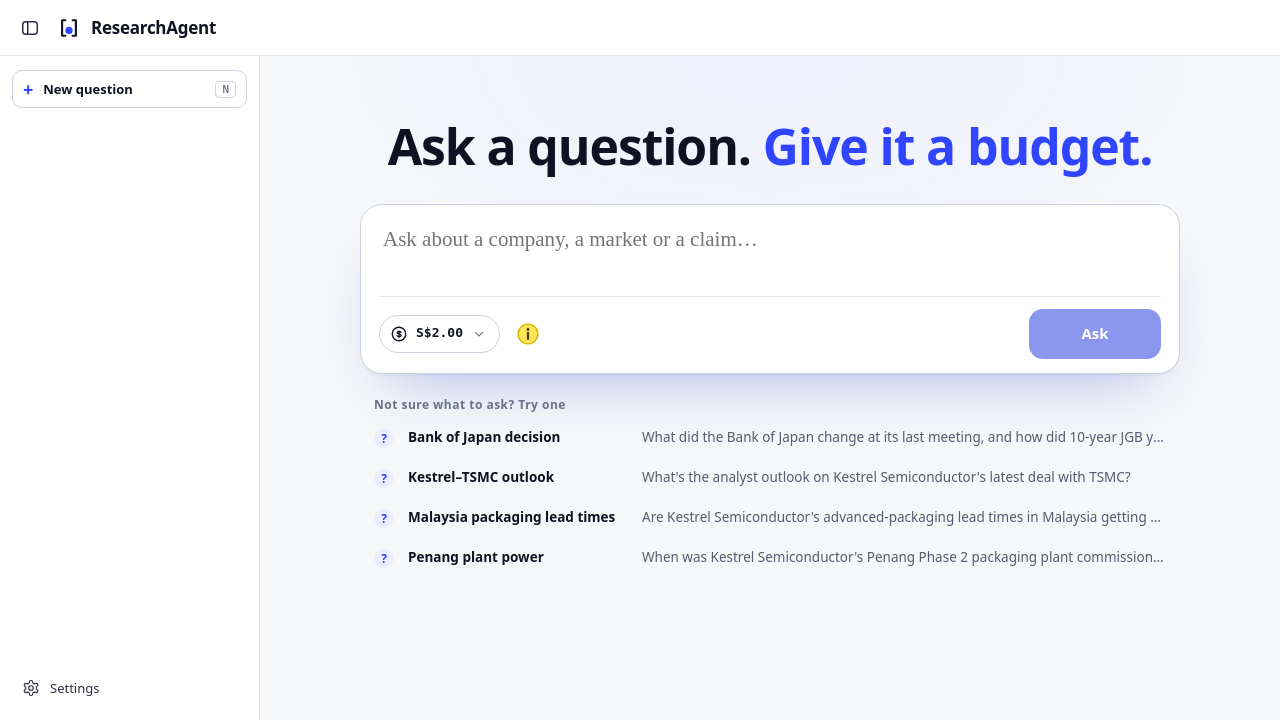
Test: chat page (owner, 9 Oct) › a research follow-up opens the plan card on the chat page; Cancel drops it and starts nothing
Type "hi" into the text box named "Your question" at (770, 259), box [379,223,1161,296]
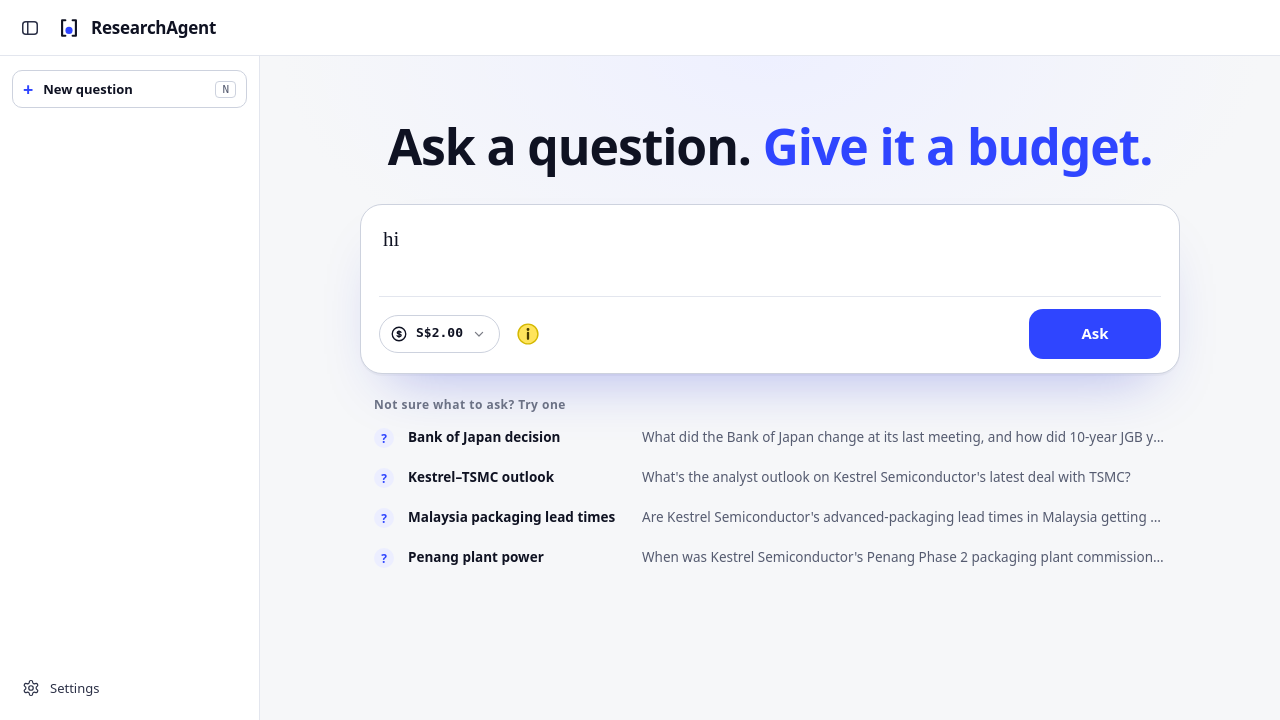
Click the button "Ask" at (1095, 334), box [1029,309,1161,359]
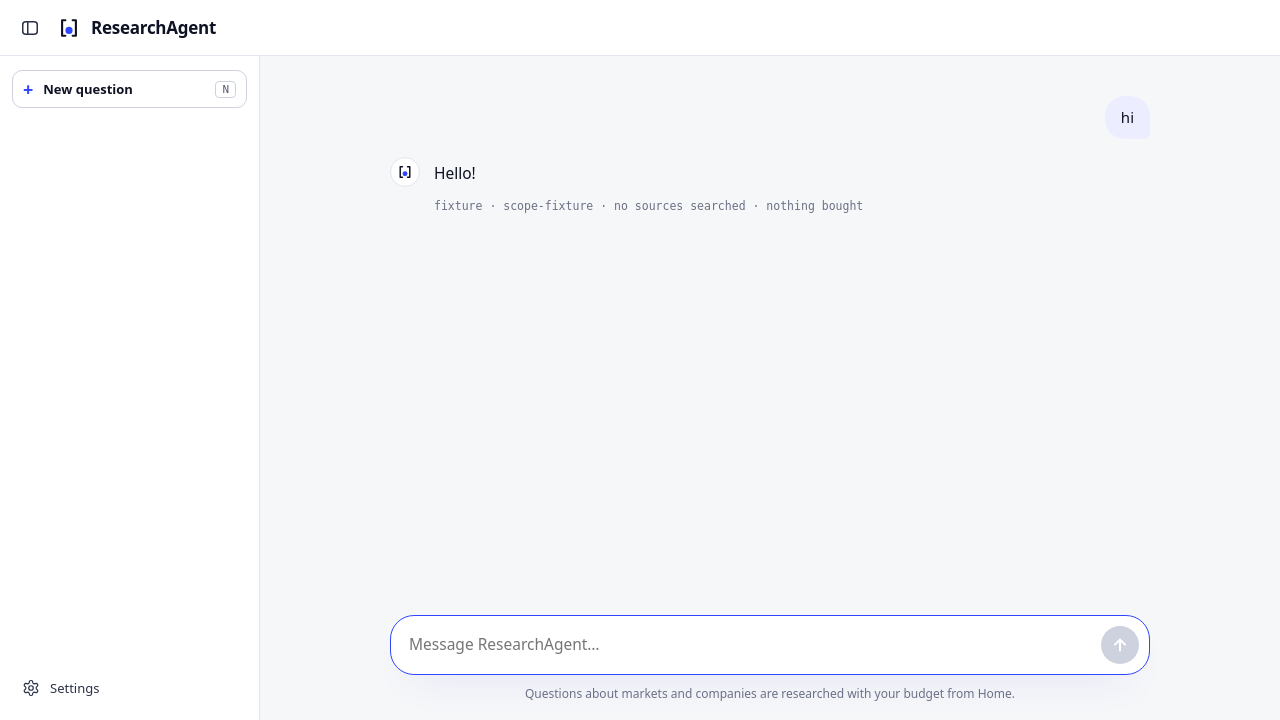
Result: the element with test id "ra-chat-reply" is shown at [390,156,863,213]
Type "Kestrel outlook?" into the text box named "Your message" at (750, 645), box [409,626,1091,664]
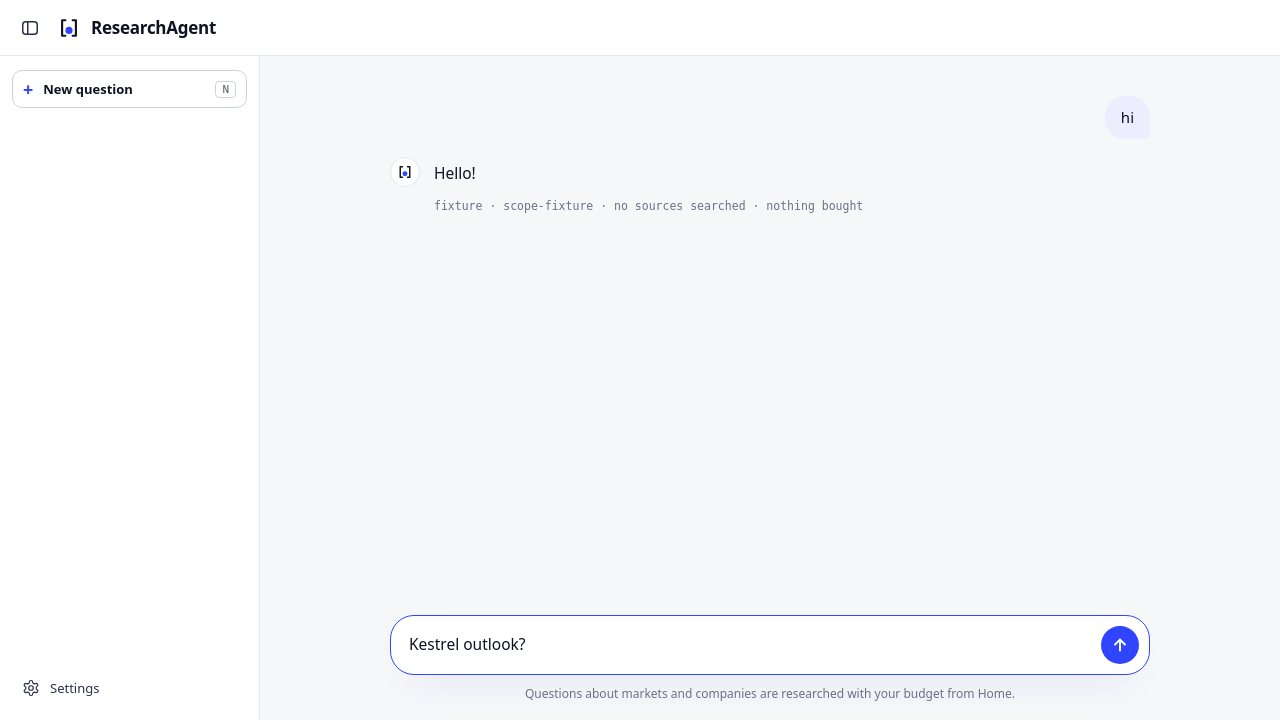
Click the button named "Send" at (1120, 645), box [1101,626,1139,664]
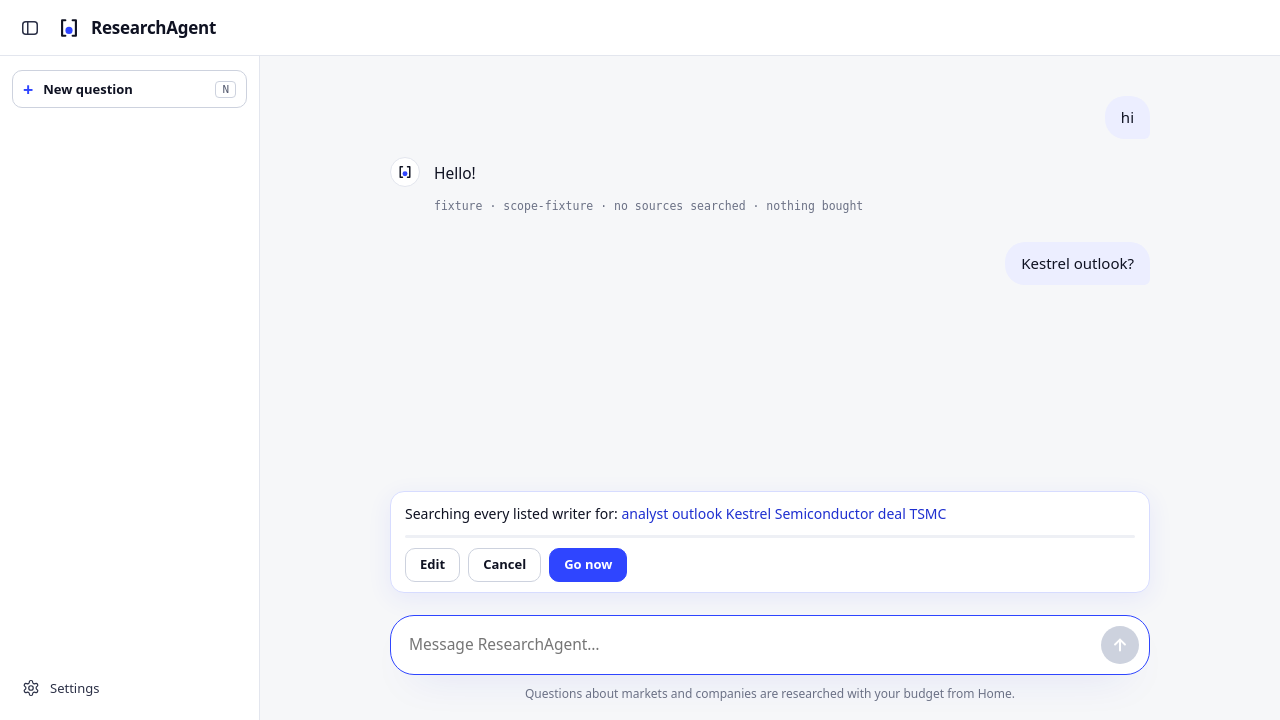
Result: the dialog named "Search plan" is shown at [390,491,1150,593]
Result: the element named "Conversation" shows "Kestrel outlook?" at [1021,253,1134,273]
Click the button "Cancel" at (505, 565), box [468,548,541,582]
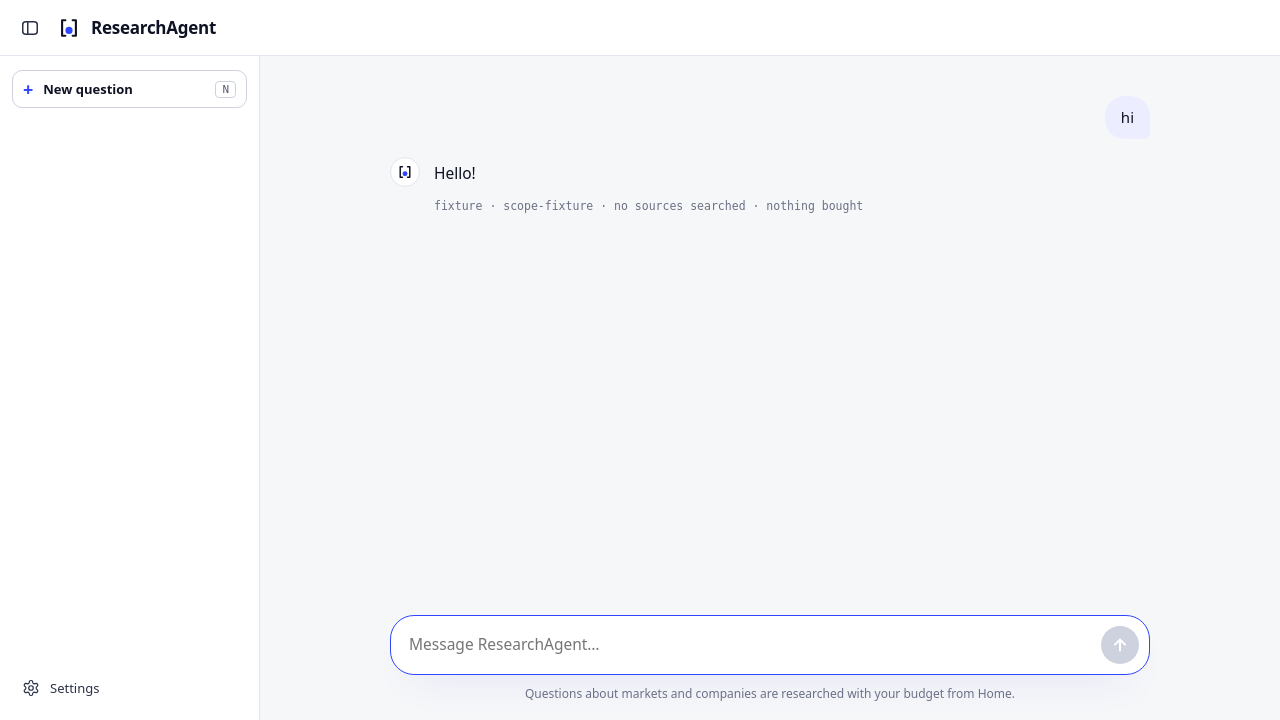
Result: the text "Conversation" no longer shows "Kestrel outlook?"
